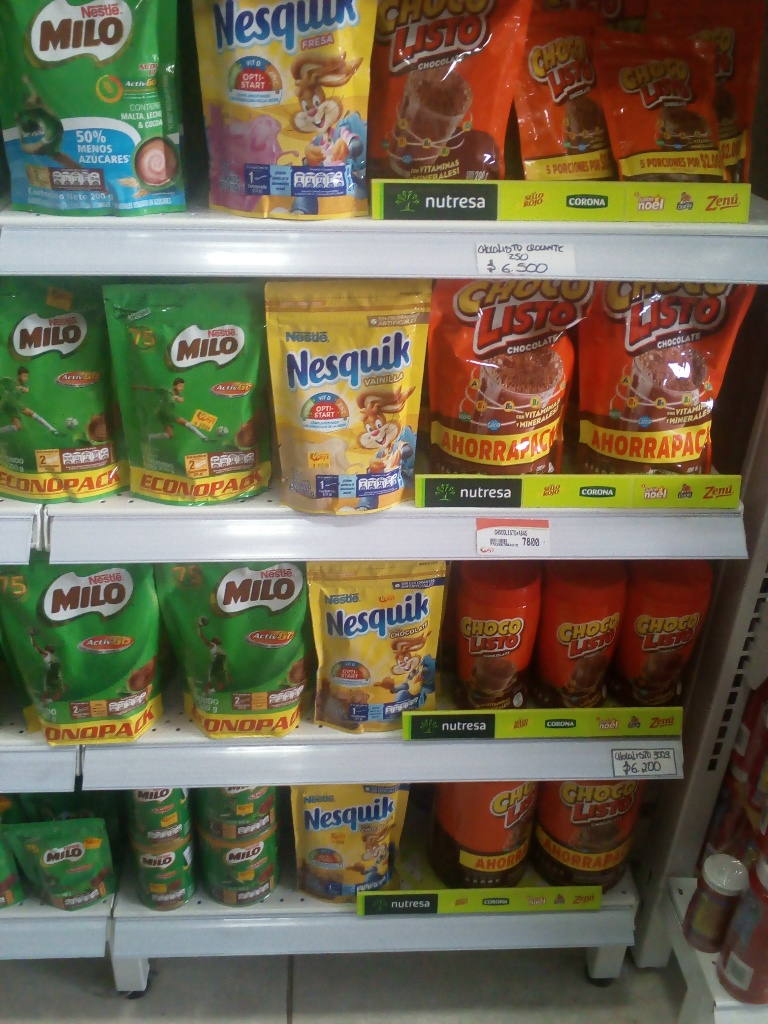COL0170103DYP20000: (380, 0, 521, 181)
COL0170103DYP36000: (430, 280, 574, 471)
COL0170103TRR00100: (434, 783, 536, 895)
COL0170103TRR30000: (457, 562, 543, 712)
COL0170203DYP25000: (103, 282, 274, 506)
COL0170203DYP50000: (3, 568, 163, 746)
COL0170203LAT40000: (131, 789, 193, 849)
COL0170205DYP20000: (0, 2, 194, 219)
COL0170303DYP20000: (292, 778, 407, 891)
COL0170305DYP20000: (191, 0, 376, 223)
COL0170306DYP20000: (261, 279, 429, 514)
